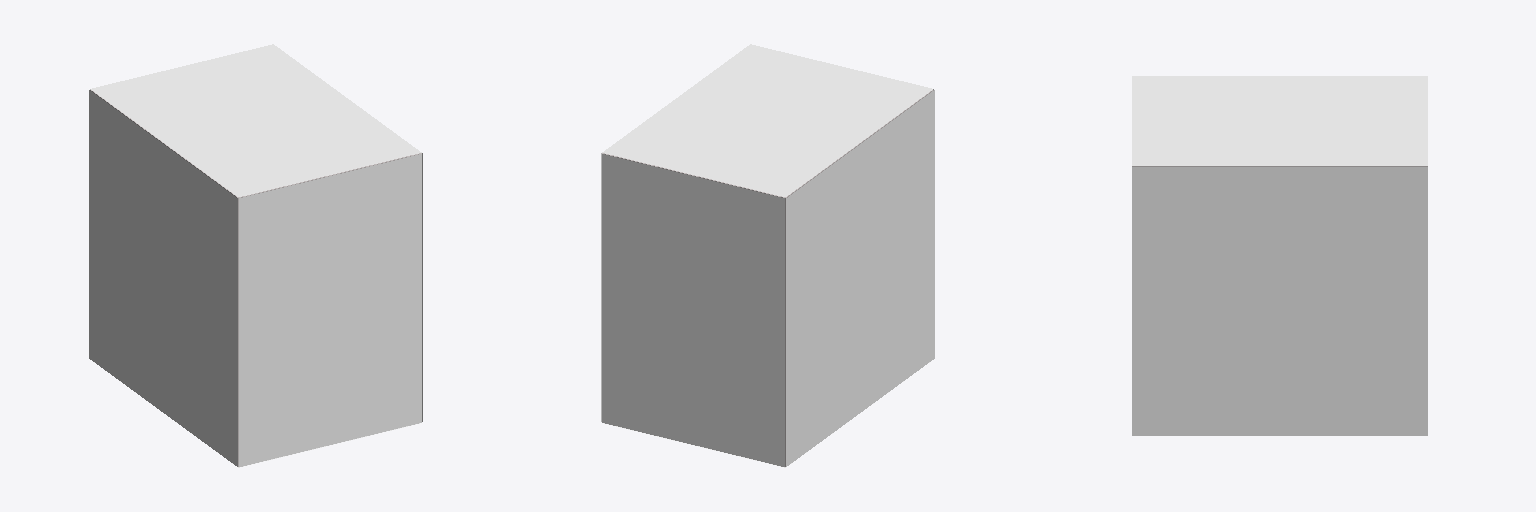
File: kiln.obj
3 renders of one model, left to right at view 1: azimuth 30°, elevation 25°; view 2: azimuth 150°, elevation 25°; view 3: azimuth 270°, elevation 25°, orthographic.
Visible parts, largest first — view 1: Kiln2, Kiln7, Kiln3, Kiln1; view 2: Kiln6, Kiln7, Kiln3, Kiln1; view 3: Kiln5, Kiln3.
Boxes of the visible parts, x1,y1,x2,y2 form: Kiln2: [239, 154, 421, 466]; Kiln7: [89, 90, 237, 466]; Kiln3: [91, 44, 421, 196]; Kiln1: [90, 90, 421, 466]; Kiln6: [602, 154, 784, 466]; Kiln7: [786, 90, 934, 466]; Kiln3: [602, 44, 932, 196]; Kiln1: [602, 90, 933, 466]; Kiln5: [1132, 167, 1427, 435]; Kiln3: [1132, 76, 1427, 165].
Bounding box in the file's own units: 5.04 × 7.04 × 7.04.